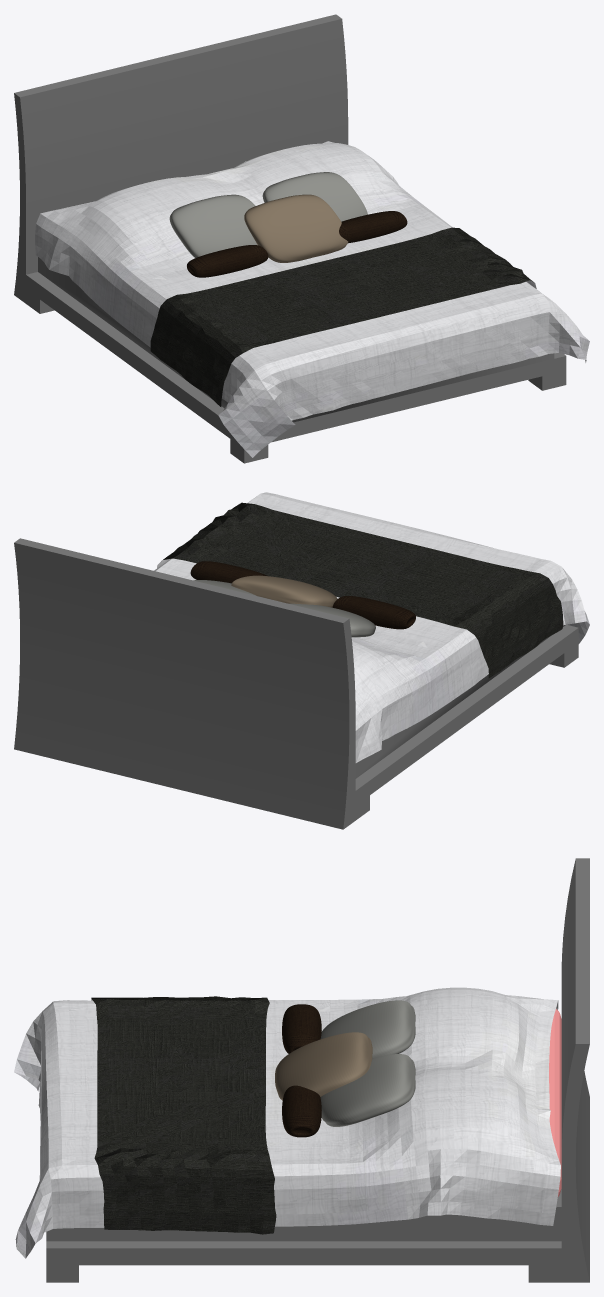
The model's file is cama_3.glb.
The picture shows the model from 3 angles, top to bottom: view 1: azimuth 30°, elevation 25°; view 2: azimuth 150°, elevation 25°; view 3: azimuth 270°, elevation 25°; orthographic projection. The views are drawn at different scales.
Parts seen in each view (by area): view 1: mesh_15_ROOT__Component_1815629_Layer0, mesh_12_ROOT__Component_1815627__Component_1815621_Layer0, mesh_13_ROOT__Component_1815628_Layer0_65_66_61_ss, mesh_8_ROOT__Component_1815627__Component_1815623_Layer0, mesh_11_ROOT__Component_1815627__Component_1815620_Layer0, mesh_3_ROOT__Component_1815627__Component_1815624__Component, mesh_10_ROOT__Component_1815627__Component_1815625_Layer0, mesh_2_ROOT__Component_1815627__Component_1815624__Component, mesh_6_ROOT__Component_1815627__m__Component_1815619_Layer0_, mesh_4_ROOT__Component_1815627__m__Component_1815619_Layer0_; view 2: mesh_12_ROOT__Component_1815627__Component_1815621_Layer0, mesh_13_ROOT__Component_1815628_Layer0_65_66_61_ss, mesh_15_ROOT__Component_1815629_Layer0, mesh_8_ROOT__Component_1815627__Component_1815623_Layer0, mesh_11_ROOT__Component_1815627__Component_1815620_Layer0, mesh_10_ROOT__Component_1815627__Component_1815625_Layer0, mesh_6_ROOT__Component_1815627__m__Component_1815619_Layer0_, mesh_4_ROOT__Component_1815627__m__Component_1815619_Layer0_, mesh_3_ROOT__Component_1815627__Component_1815624__Component; view 3: mesh_15_ROOT__Component_1815629_Layer0, mesh_13_ROOT__Component_1815628_Layer0_65_66_61_ss, mesh_8_ROOT__Component_1815627__Component_1815623_Layer0, mesh_12_ROOT__Component_1815627__Component_1815621_Layer0, mesh_10_ROOT__Component_1815627__Component_1815625_Layer0, mesh_2_ROOT__Component_1815627__Component_1815624__Component, mesh_11_ROOT__Component_1815627__Component_1815620_Layer0, mesh_3_ROOT__Component_1815627__Component_1815624__Component, mesh_4_ROOT__Component_1815627__m__Component_1815619_Layer0_, mesh_9_ROOT__Component_1815627__Component_1815622_Layer0, mesh_6_ROOT__Component_1815627__m__Component_1815619_Layer0_.
Boxes of the visible parts, left/top/right/bottom form: mesh_15_ROOT__Component_1815629_Layer0: left=35, top=141, right=589, bottom=457; mesh_12_ROOT__Component_1815627__Component_1815621_Layer0: left=14, top=14, right=348, bottom=303; mesh_13_ROOT__Component_1815628_Layer0_65_66_61_ss: left=150, top=227, right=533, bottom=406; mesh_8_ROOT__Component_1815627__Component_1815623_Layer0: left=26, top=272, right=566, bottom=463; mesh_11_ROOT__Component_1815627__Component_1815620_Layer0: left=244, top=194, right=348, bottom=262; mesh_3_ROOT__Component_1815627__Component_1815624__Component: left=169, top=194, right=257, bottom=257; mesh_10_ROOT__Component_1815627__Component_1815625_Layer0: left=38, top=257, right=554, bottom=422; mesh_2_ROOT__Component_1815627__Component_1815624__Component: left=262, top=172, right=367, bottom=221; mesh_6_ROOT__Component_1815627__m__Component_1815619_Layer0_: left=187, top=245, right=268, bottom=277; mesh_4_ROOT__Component_1815627__m__Component_1815619_Layer0_: left=339, top=211, right=407, bottom=243; mesh_12_ROOT__Component_1815627__Component_1815621_Layer0: left=14, top=538, right=355, bottom=829; mesh_13_ROOT__Component_1815628_Layer0_65_66_61_ss: left=163, top=502, right=563, bottom=677; mesh_15_ROOT__Component_1815629_Layer0: left=154, top=492, right=589, bottom=762; mesh_8_ROOT__Component_1815627__Component_1815623_Layer0: left=355, top=624, right=578, bottom=820; mesh_11_ROOT__Component_1815627__Component_1815620_Layer0: left=231, top=575, right=337, bottom=607; mesh_10_ROOT__Component_1815627__Component_1815625_Layer0: left=355, top=625, right=565, bottom=778; mesh_6_ROOT__Component_1815627__m__Component_1815619_Layer0_: left=332, top=596, right=415, bottom=629; mesh_4_ROOT__Component_1815627__m__Component_1815619_Layer0_: left=190, top=561, right=267, bottom=583; mesh_3_ROOT__Component_1815627__Component_1815624__Component: left=289, top=603, right=375, bottom=637; mesh_15_ROOT__Component_1815629_Layer0: left=14, top=987, right=560, bottom=1258; mesh_13_ROOT__Component_1815628_Layer0_65_66_61_ss: left=91, top=996, right=276, bottom=1234; mesh_8_ROOT__Component_1815627__Component_1815623_Layer0: left=46, top=1241, right=561, bottom=1282; mesh_12_ROOT__Component_1815627__Component_1815621_Layer0: left=561, top=858, right=589, bottom=1282; mesh_10_ROOT__Component_1815627__Component_1815625_Layer0: left=46, top=1189, right=561, bottom=1241; mesh_2_ROOT__Component_1815627__Component_1815624__Component: left=320, top=1054, right=415, bottom=1126; mesh_11_ROOT__Component_1815627__Component_1815620_Layer0: left=275, top=1032, right=372, bottom=1100; mesh_3_ROOT__Component_1815627__Component_1815624__Component: left=320, top=1000, right=415, bottom=1058; mesh_4_ROOT__Component_1815627__m__Component_1815619_Layer0_: left=282, top=1085, right=321, bottom=1137; mesh_9_ROOT__Component_1815627__Component_1815622_Layer0: left=549, top=1009, right=561, bottom=1196; mesh_6_ROOT__Component_1815627__m__Component_1815619_Layer0_: left=282, top=1004, right=321, bottom=1053.
Size of the model in its own units: 1801 by 971 by 2124.
9 materials, 4 textured.
